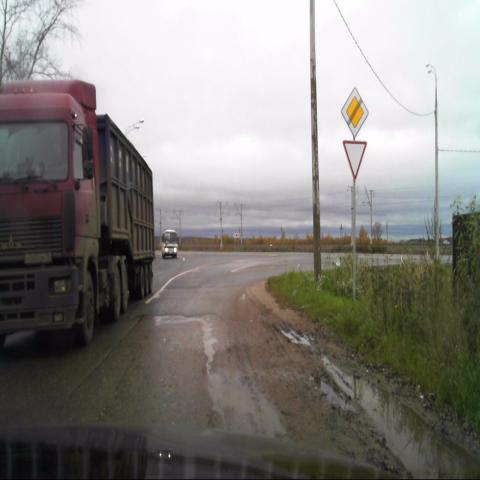2_2: (341, 87, 369, 138)
2_4: (343, 140, 368, 182)
